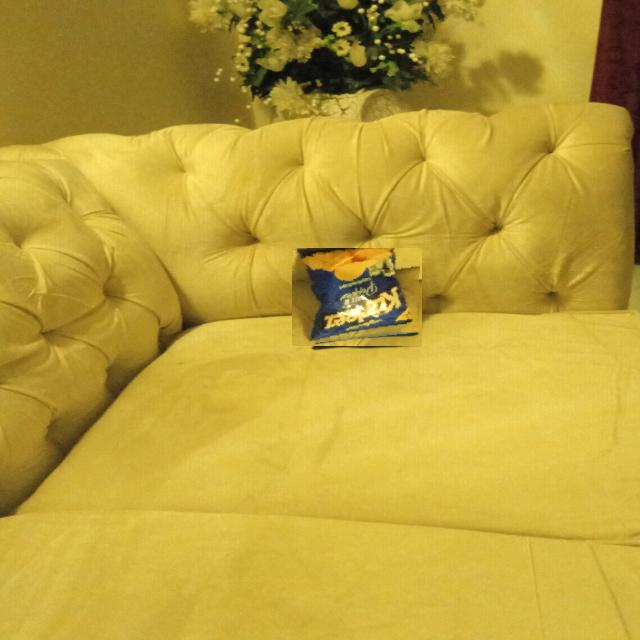Plastic: (292, 248, 422, 346)
